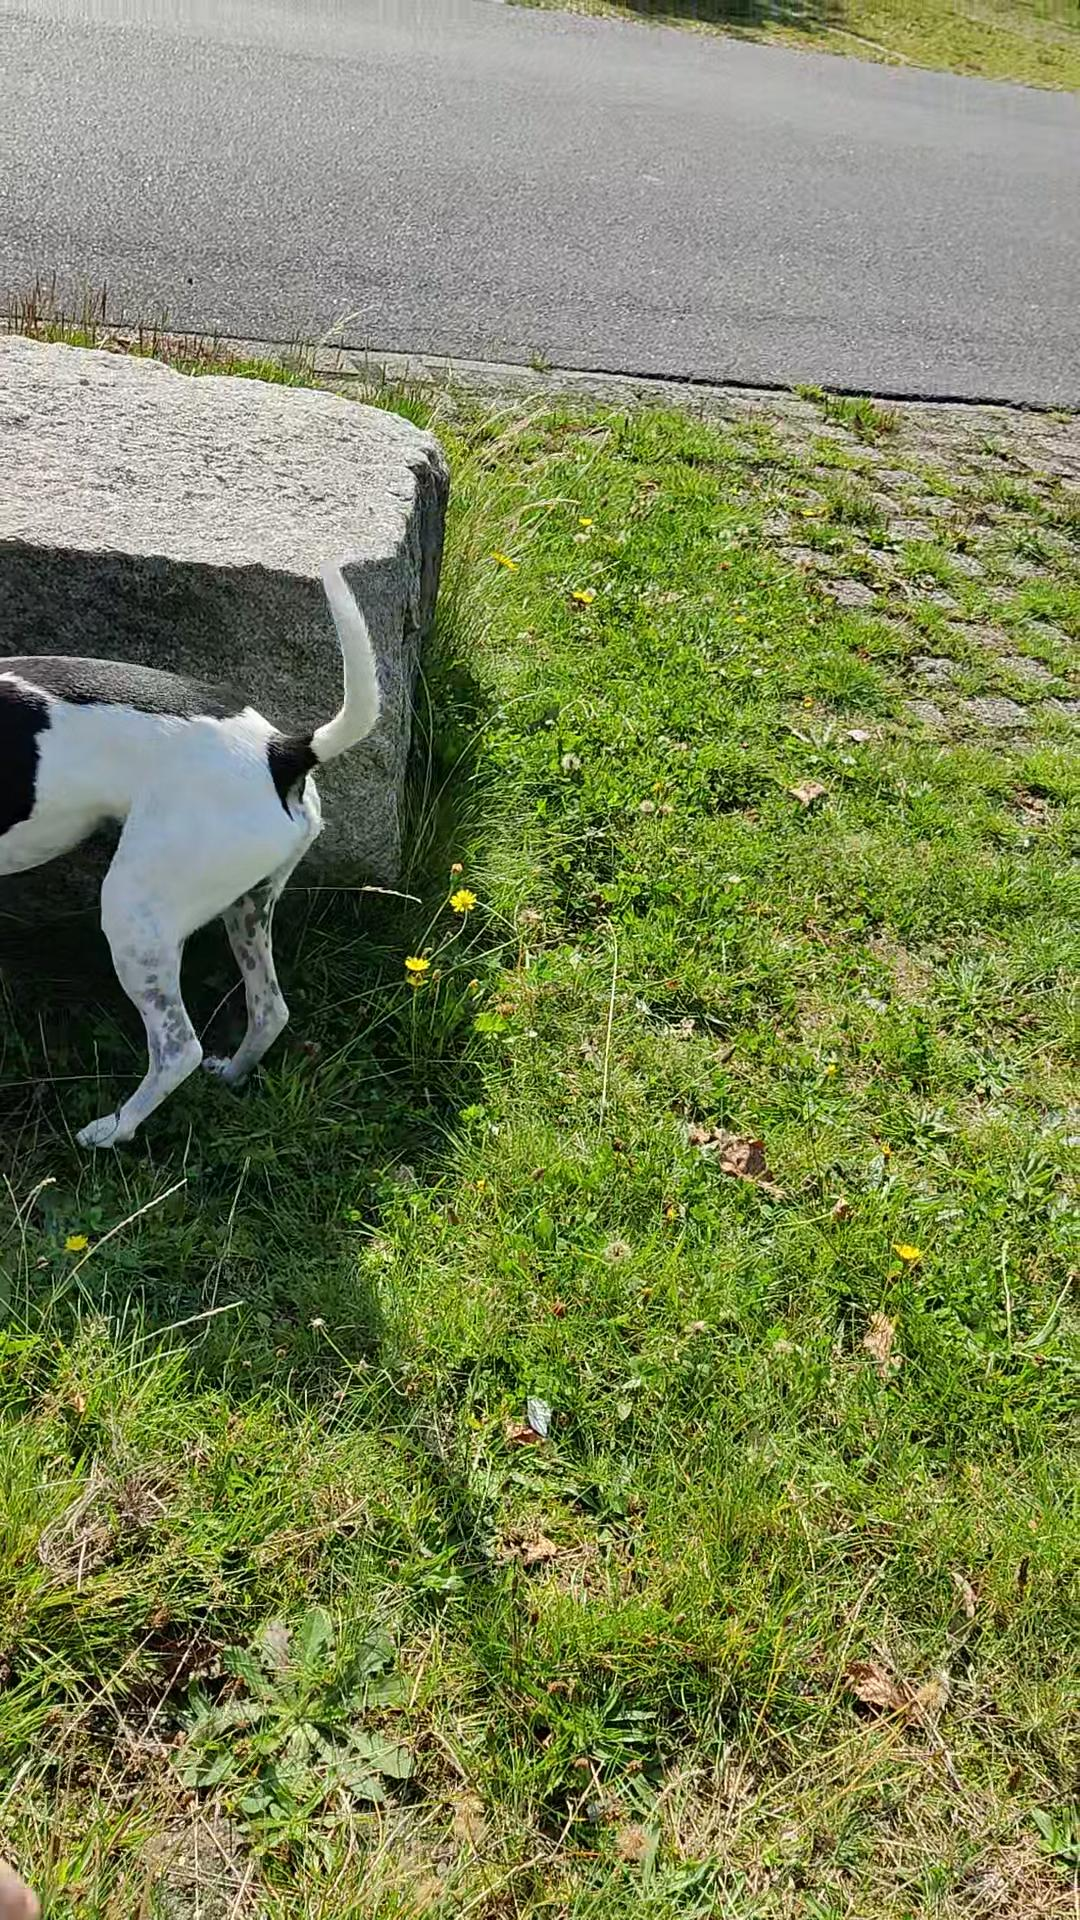Dog: (0, 551, 388, 1160)
